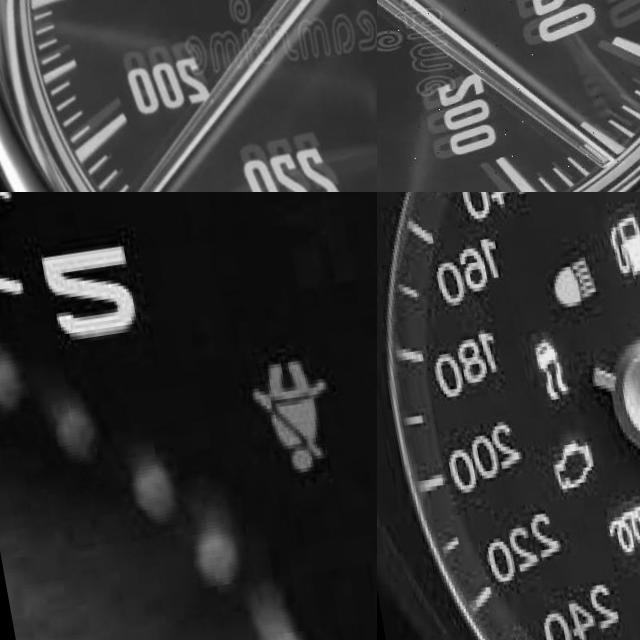Seat Belt: (236, 367, 335, 491)
